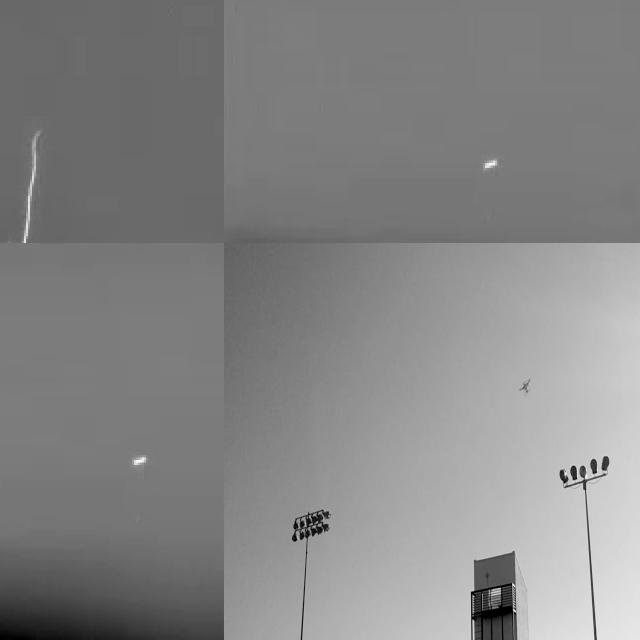0: (0, 237, 18, 243)
1: (123, 450, 155, 480), (474, 155, 506, 183)
drone: (516, 372, 534, 402)
